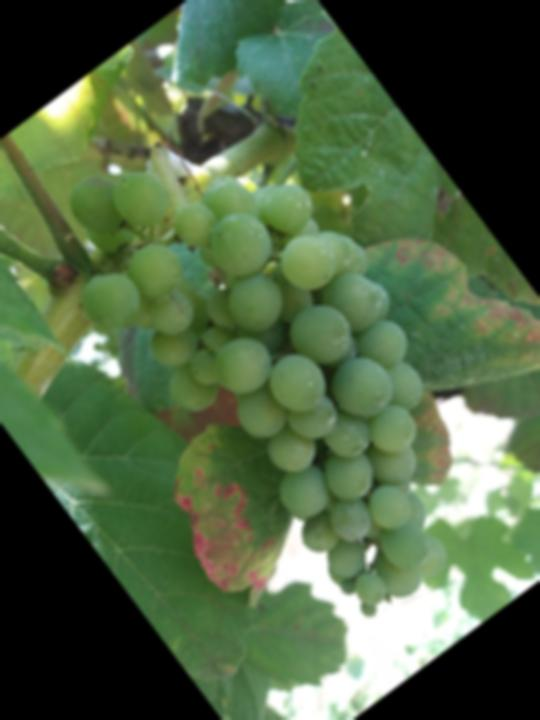grape: (15, 66, 540, 660)
